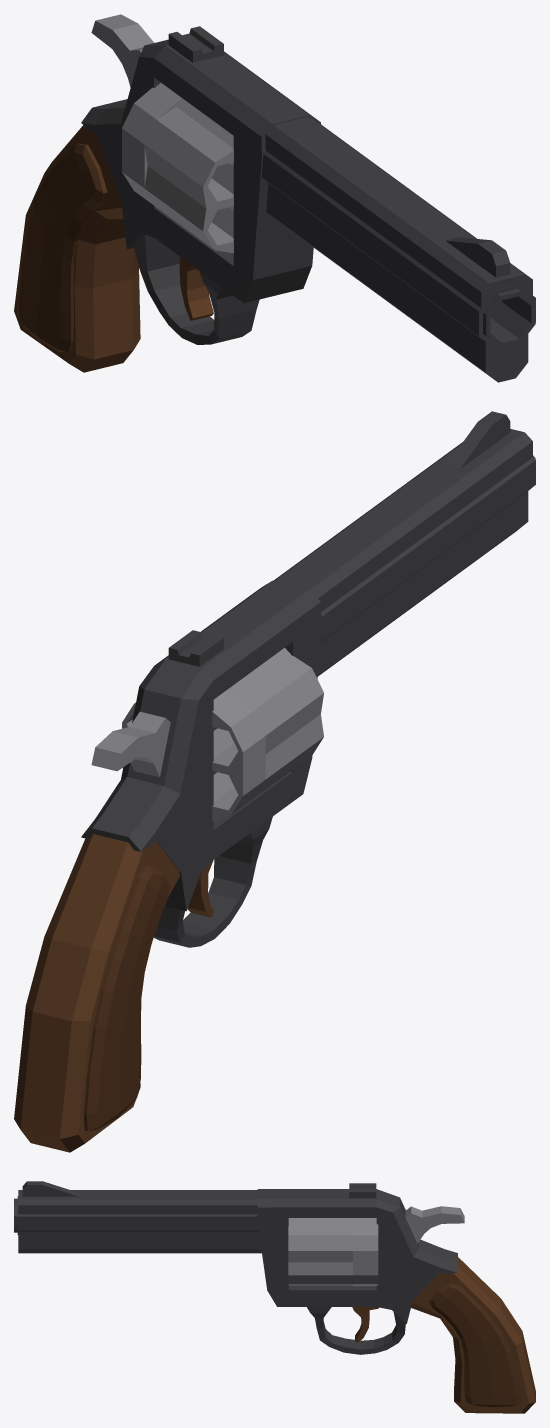
File: double_action.glb
3 views of the same model, one above another, from view 1: azimuth 30°, elevation 25°; view 2: azimuth 150°, elevation 25°; view 3: azimuth 270°, elevation 25° (orthographic). The views are drawn at different scales.
Visible parts, largest first — view 1: Revolver_2; view 2: Revolver_2; view 3: Revolver_2.
Boxes of the visible parts, x1=… form: Revolver_2: x1=14, y1=14, x2=535, y2=382; Revolver_2: x1=14, y1=411, x2=535, y2=1152; Revolver_2: x1=14, y1=1181, x2=535, y2=1413.
Bounding box in the file's own units: 0.0431 × 0.1381 × 0.29.
